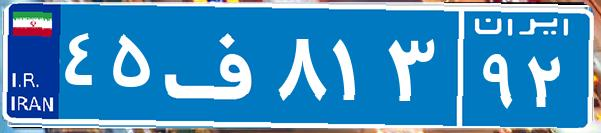1: (330, 28, 385, 110)
2: (525, 38, 570, 115)
3: (385, 28, 445, 110)
4: (57, 26, 110, 107)
5: (110, 28, 158, 105)
8: (273, 28, 330, 110)
9: (475, 38, 525, 113)
ف: (158, 15, 273, 115)
